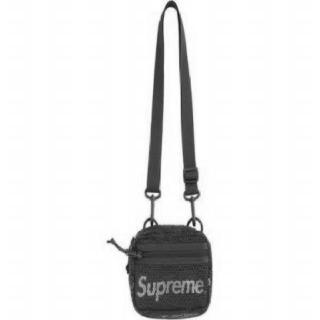other: (99, 0, 217, 316)
